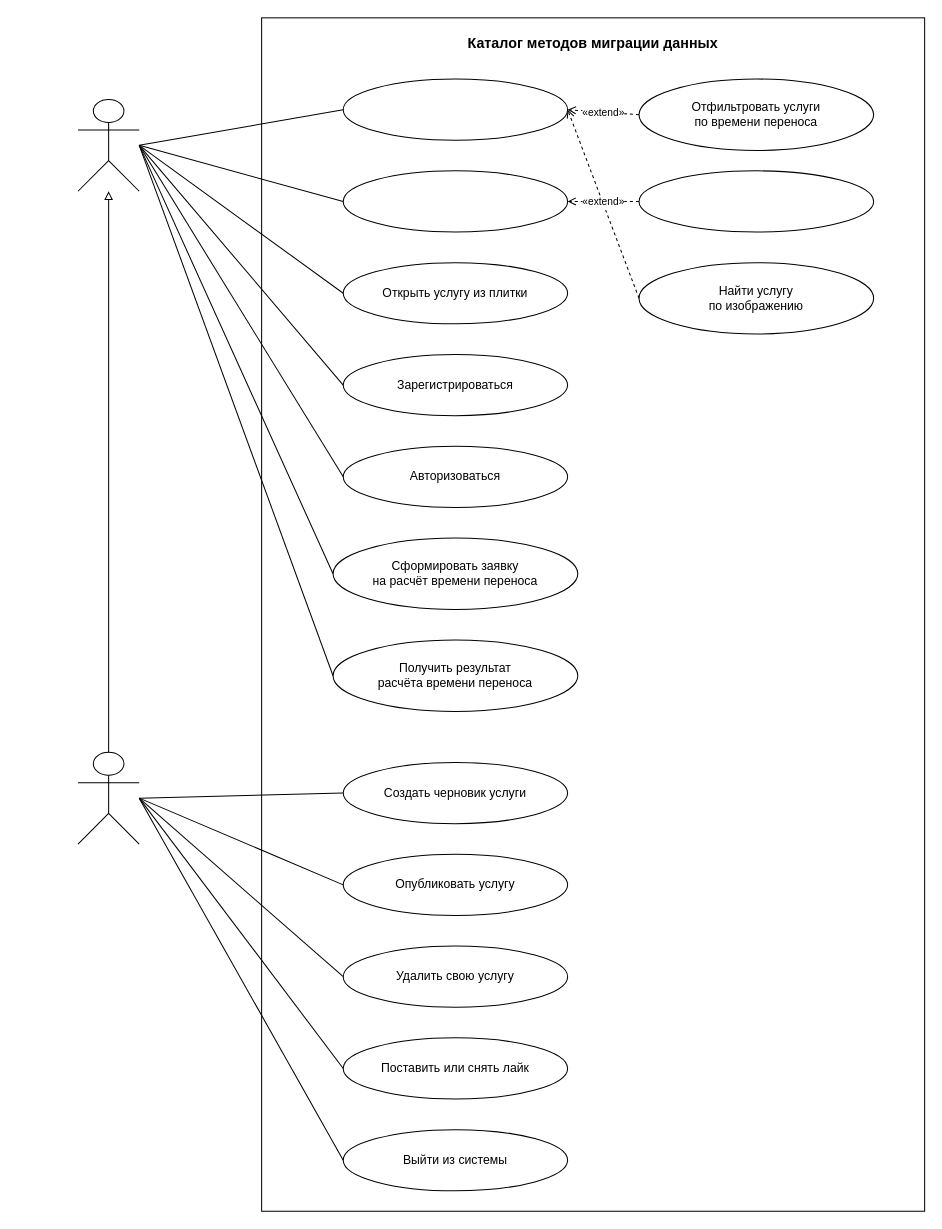
This 942x1229 diagram has some shape labels left out. The centre of each missing label's shape, as x and y in pixels:
"Гость" belongs at point 108,144.
"Перейти к следующей услуге" belongs at point 756,201.
"Просмотреть ленту услуг" belongs at point 455,201.
"Просмотреть плитку услуг" belongs at point 455,109.
"Создатель (авторизованный пользователь)" belongs at point 108,797.
